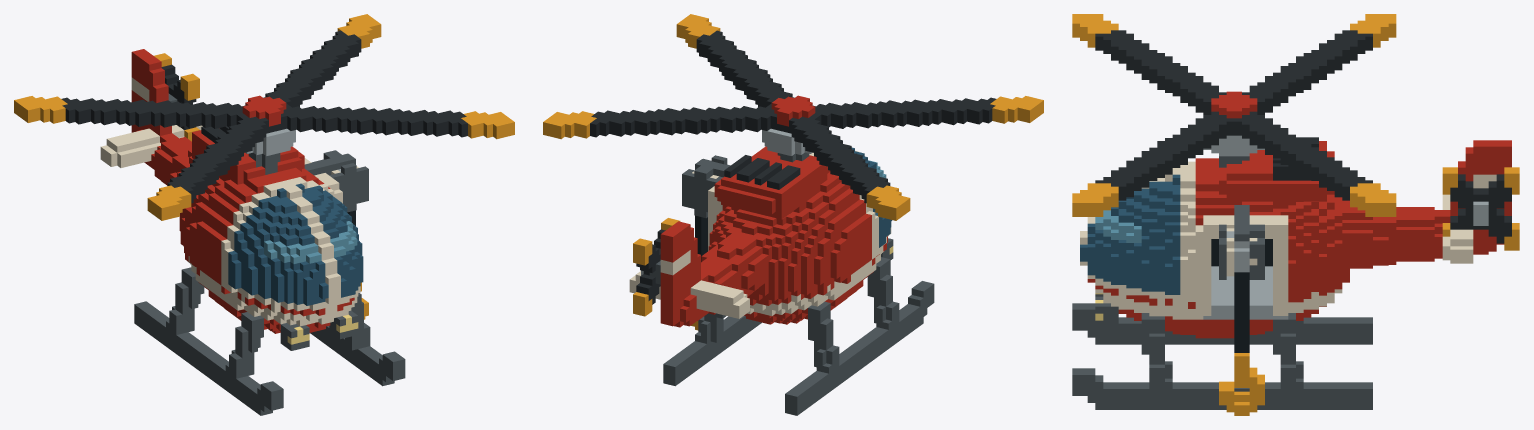
File: rescue_helicopter.glb
The picture shows the model from 3 angles, left to right: view 1: azimuth 30°, elevation 25°; view 2: azimuth 150°, elevation 25°; view 3: azimuth 270°, elevation 25°; orthographic projection. The views are drawn at different scales.
Parts seen in each view (by area): view 1: rescue_helicopter; view 2: rescue_helicopter; view 3: rescue_helicopter.
Part boxes in pixels (box(x1,y1,x2,y2)): rescue_helicopter: box(14, 14, 514, 415); rescue_helicopter: box(543, 14, 1043, 415); rescue_helicopter: box(1072, 14, 1519, 415).
Size of the model in its own units: 5.8 by 3.9 by 5.8.
